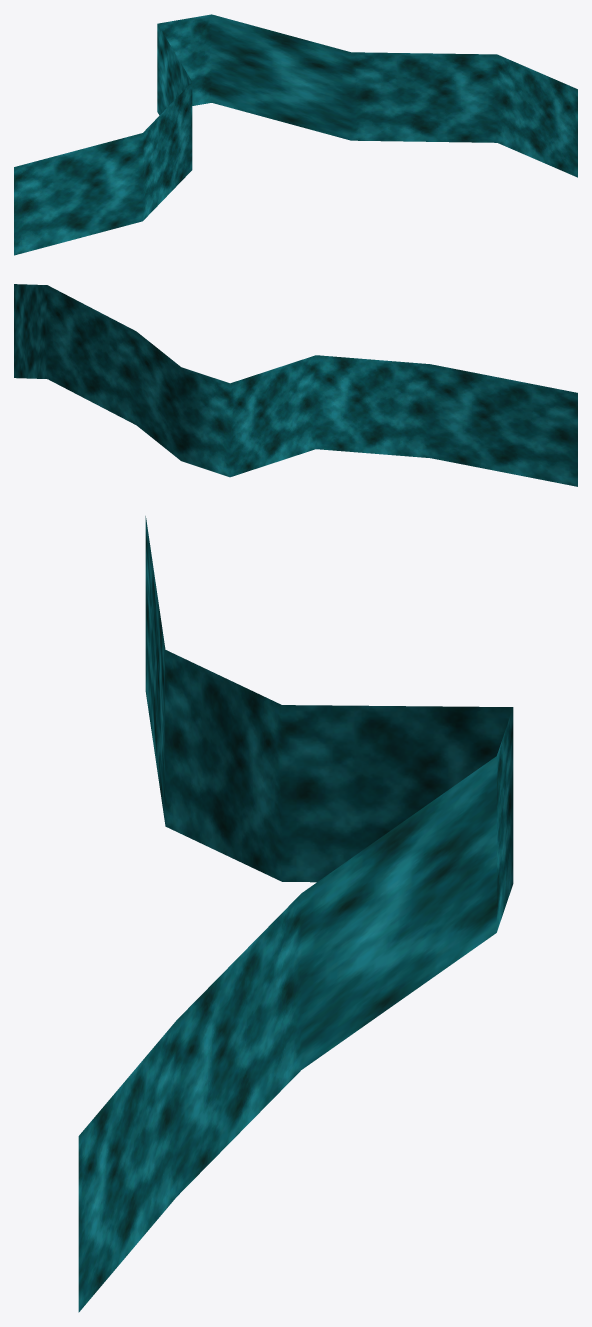
The model's file is MIRKWOOD_FOGE.fbx.
3 renders of one model, top to bottom at view 1: azimuth 30°, elevation 25°; view 2: azimuth 150°, elevation 25°; view 3: azimuth 270°, elevation 25°, orthographic. The views are drawn at different scales.
Visible parts, largest first — view 1: MIRKWOOD_FOGE; view 2: MIRKWOOD_FOGE; view 3: MIRKWOOD_FOGE.
Boxes of the visible parts, box(x1,y1,x2,y2) form: MIRKWOOD_FOGE: box(14, 14, 577, 255); MIRKWOOD_FOGE: box(14, 284, 577, 486); MIRKWOOD_FOGE: box(78, 516, 513, 1312).
Bounding box in the file's own units: 536884 × 141292 × 184597.
1 material, 1 textured.
